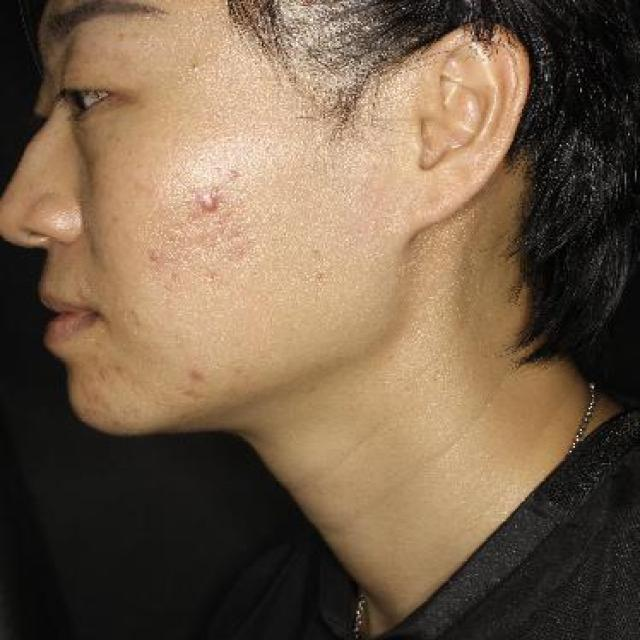papules: (190, 192, 226, 218), (187, 365, 212, 383)
